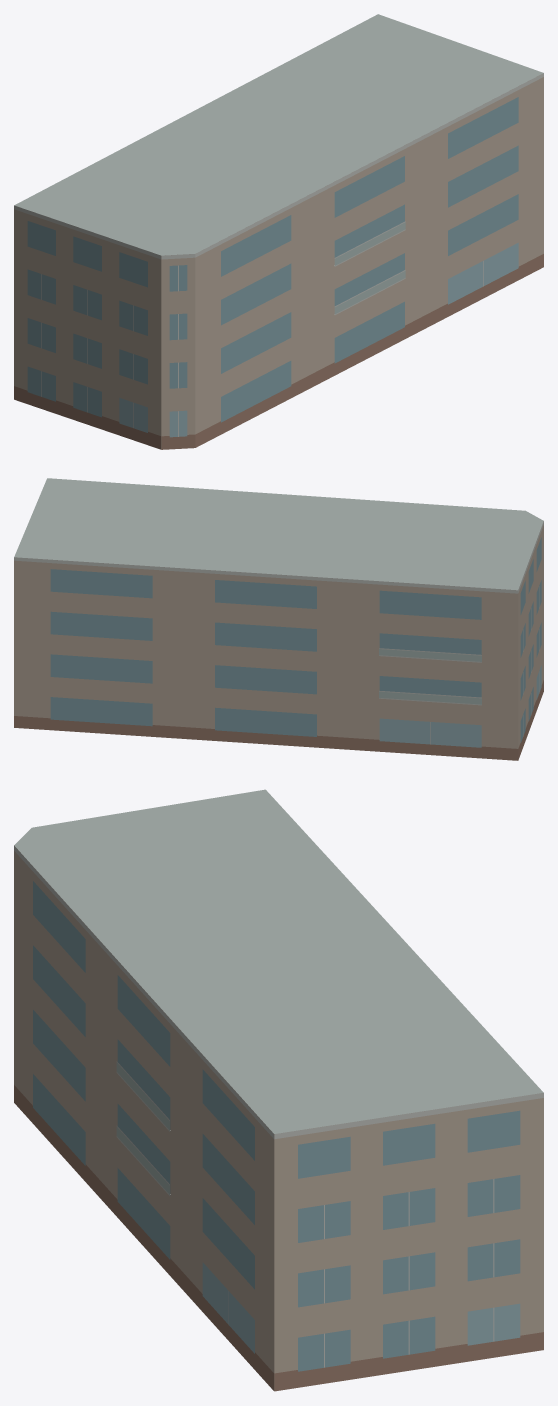
File: survey-upis-32950007.glb
3 renders of one model, top to bottom at view 1: azimuth 30°, elevation 25°; view 2: azimuth 150°, elevation 25°; view 3: azimuth 270°, elevation 25°, orthographic. The views are drawn at different scales.
Parts seen in each view (by area): view 1: survey-upis-32950007.tmp; view 2: survey-upis-32950007.tmp; view 3: survey-upis-32950007.tmp.
Part boxes in pixels (bbox=[...]): survey-upis-32950007.tmp: bbox=[14, 14, 543, 449]; survey-upis-32950007.tmp: bbox=[14, 478, 543, 760]; survey-upis-32950007.tmp: bbox=[14, 789, 543, 1391].
Size of the model in its own units: 35.06 by 12.2 by 22.78.
